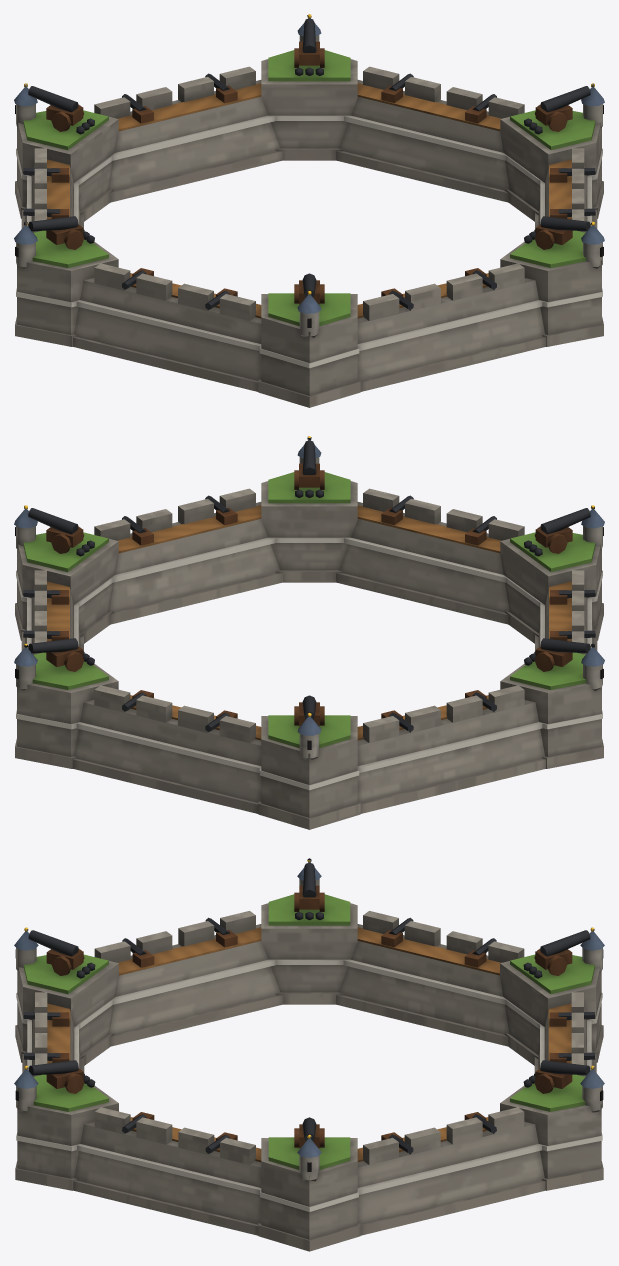
File: fort_l4.glb
The picture shows the model from 3 angles, top to bottom: view 1: azimuth 30°, elevation 25°; view 2: azimuth 150°, elevation 25°; view 3: azimuth 270°, elevation 25°; orthographic projection.
Visible parts, largest first — view 1: fort_l4; view 2: fort_l4; view 3: fort_l4.
Part boxes in pixels (bbox=[...]): fort_l4: bbox=[14, 14, 604, 407]; fort_l4: bbox=[14, 436, 604, 829]; fort_l4: bbox=[14, 858, 604, 1251].
Size of the model in its own units: 1.97 by 0.358 by 1.72.
1 material, 1 textured.
